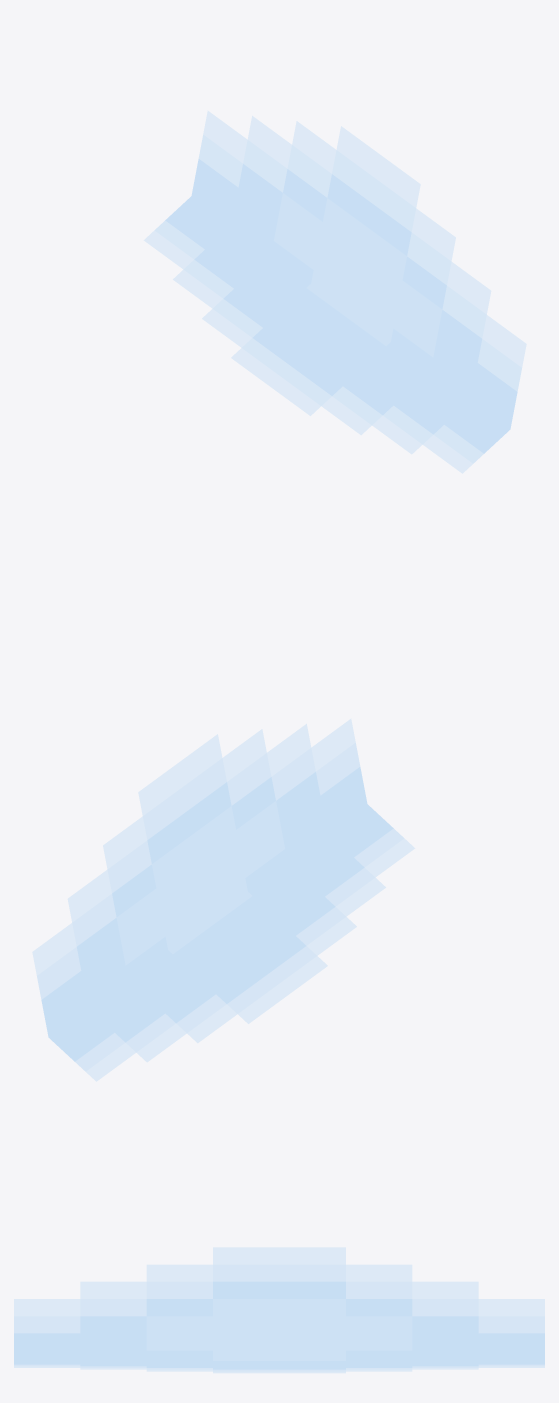
3 renders of one model, top to bottom at view 1: azimuth 30°, elevation 25°; view 2: azimuth 150°, elevation 25°; view 3: azimuth 270°, elevation 25°, orthographic. The views are drawn at different scales.
Bounding box in the file's own units: 0.3838 × 0.5088 × 1.
1 material, 1 textured.
